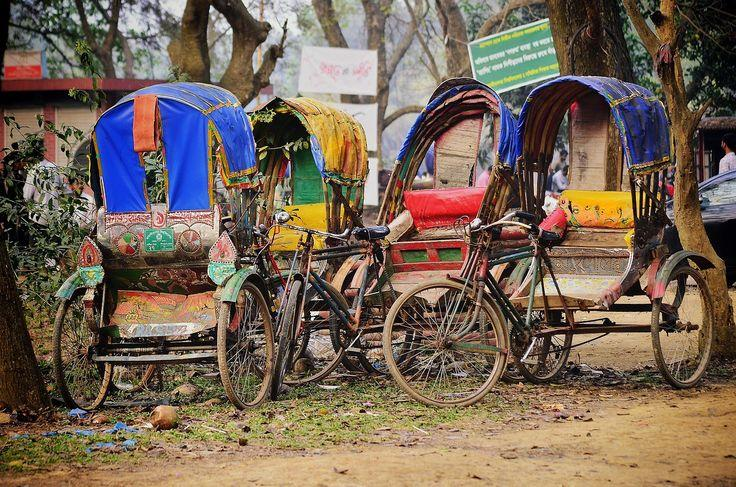Rickshaw: (384, 76, 712, 404), (54, 83, 273, 408), (378, 78, 516, 290), (250, 97, 367, 278), (250, 97, 367, 233)
